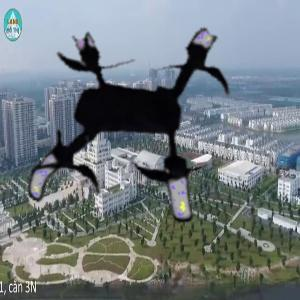drone: (10, 11, 259, 260)
